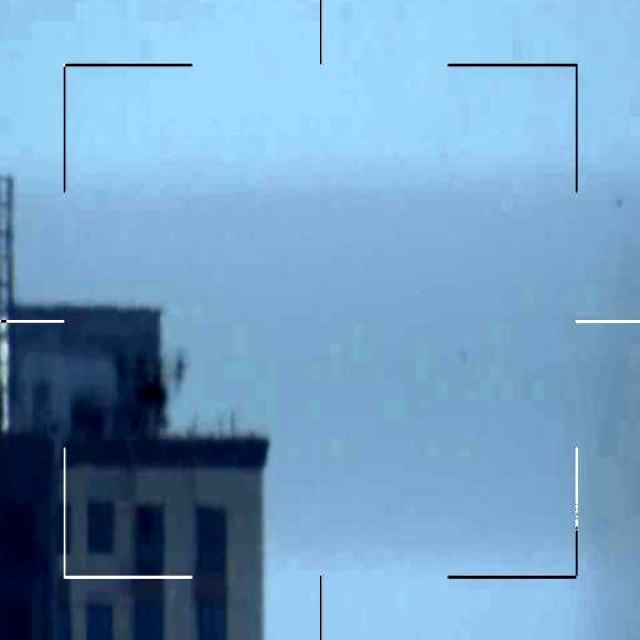bird: (119, 346, 190, 432)
